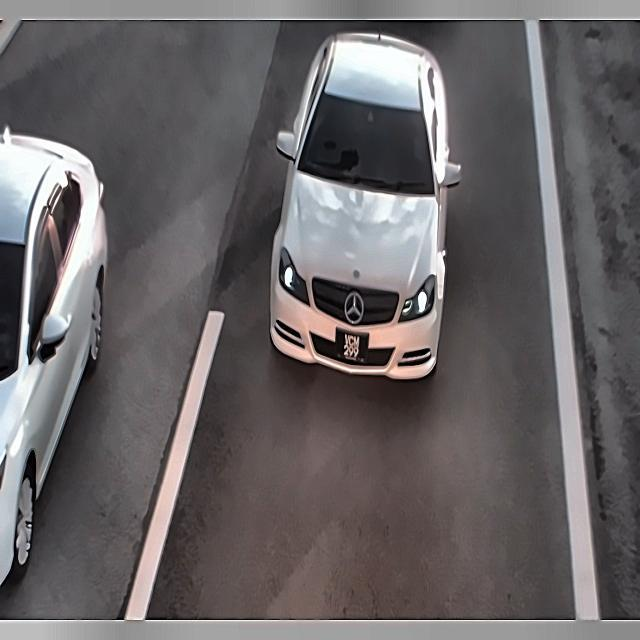car: (330, 326, 372, 364)
